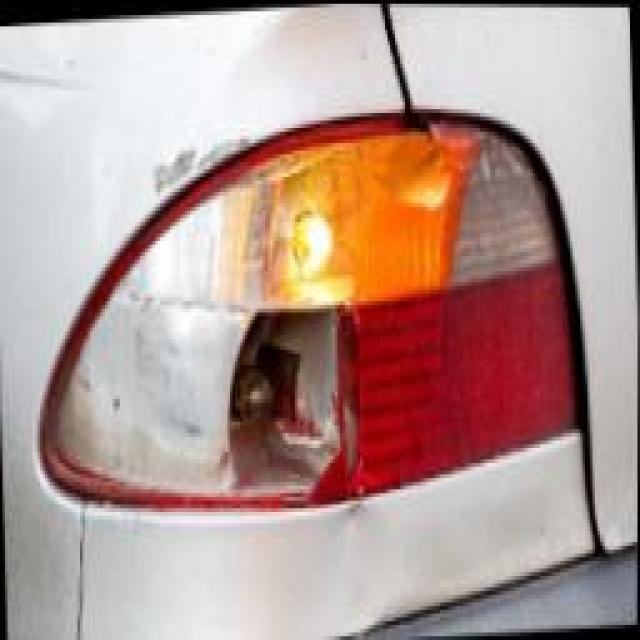Light: (68, 124, 569, 516)
